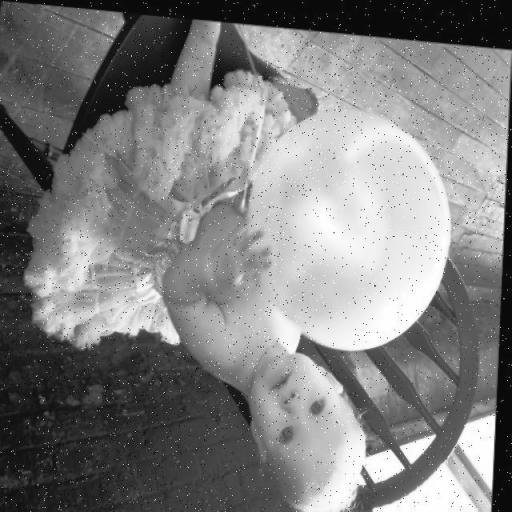balloon: (247, 97, 454, 345)
